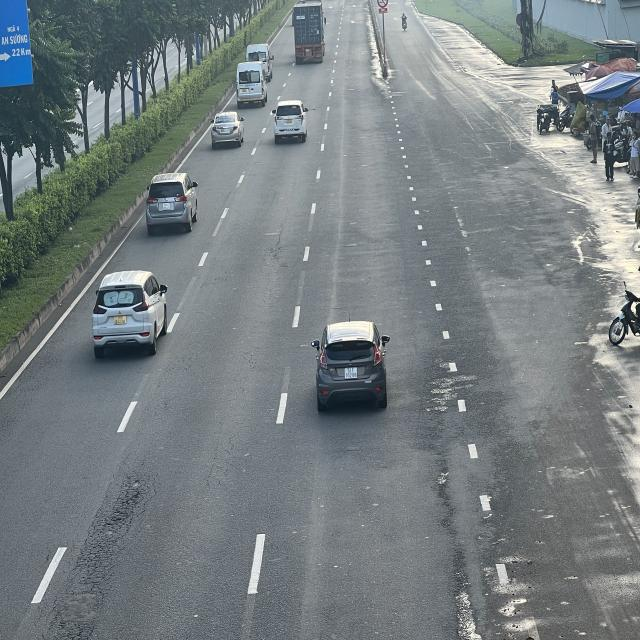car: (314, 322, 390, 410), (92, 268, 168, 353), (148, 172, 201, 233), (272, 102, 308, 144), (210, 111, 243, 149)
container: (291, 1, 325, 62)
van: (236, 62, 269, 106), (244, 40, 273, 77)
